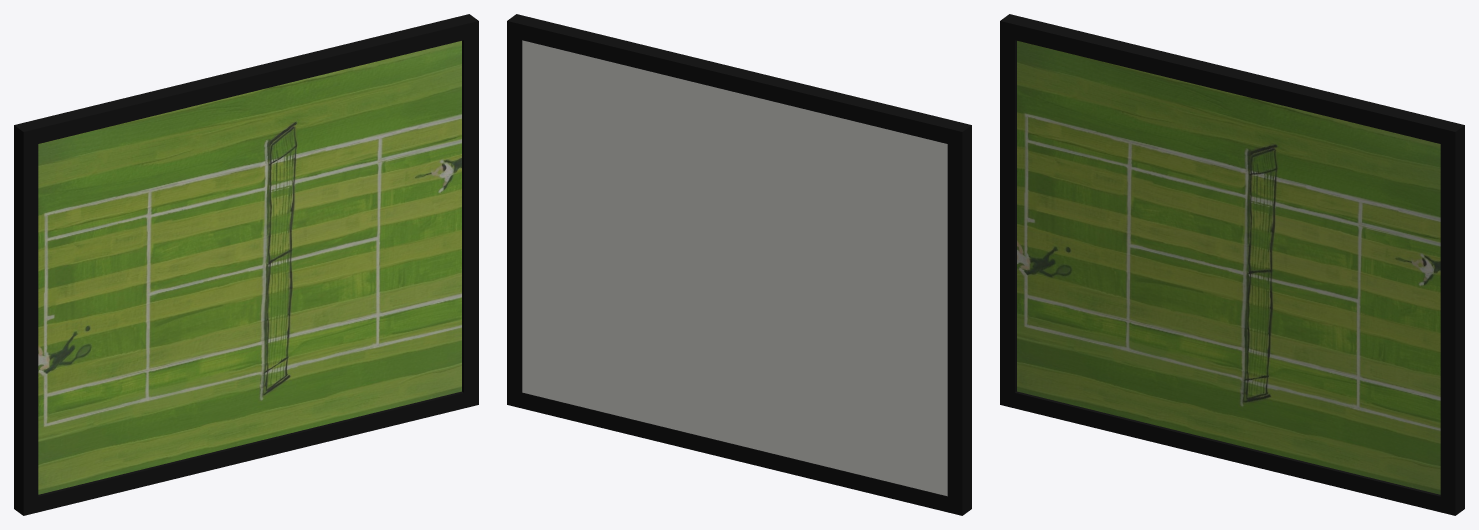
File: tennis-court-framed-poster-aerial-tennis-match-wall-art.glb
The picture shows the model from 3 angles, left to right: view 1: azimuth 30°, elevation 25°; view 2: azimuth 150°, elevation 25°; view 3: azimuth 330°, elevation 25°; orthographic projection.
Visible parts, largest first — view 1: Tennis Court Aerial – Tennis-Poster; view 2: Tennis Court Aerial – Tennis-Poster; view 3: Tennis Court Aerial – Tennis-Poster.
Part boxes in pixels (x1,y1,x2,y2): Tennis Court Aerial – Tennis-Poster: [14, 14, 478, 515]; Tennis Court Aerial – Tennis-Poster: [507, 14, 971, 515]; Tennis Court Aerial – Tennis-Poster: [1000, 14, 1464, 515].
Bounding box in the file's own units: 0.6096 × 0.4911 × 0.022.
1 material, 1 textured.
